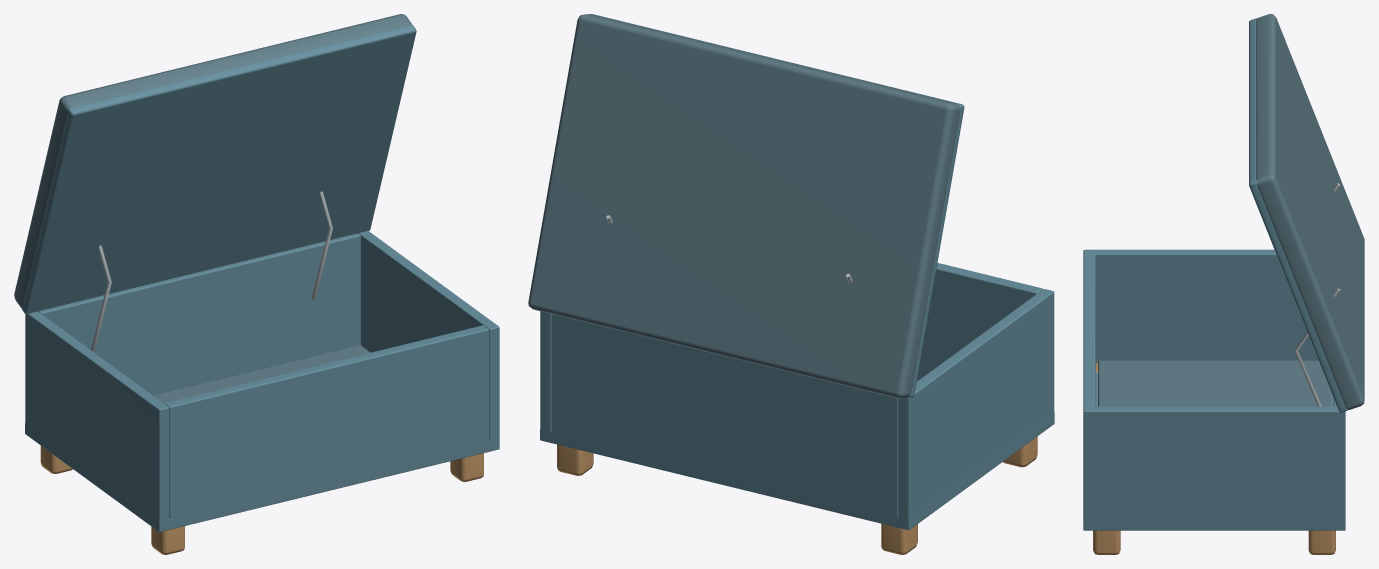
The model's file is storage-ottoman.glb.
3 views of the same model, side by side, from view 1: azimuth 30°, elevation 25°; view 2: azimuth 150°, elevation 25°; view 3: azimuth 270°, elevation 25° (orthographic). The views are drawn at different scales.
Visible parts, largest first — view 1: catalog_surface_RealismUV; view 2: catalog_surface_RealismUV; view 3: catalog_surface_RealismUV.
Part boxes in pixels (x1,y1,x2,y2): catalog_surface_RealismUV: [14, 14, 499, 554]; catalog_surface_RealismUV: [528, 14, 1054, 554]; catalog_surface_RealismUV: [1083, 14, 1364, 554].
Bounding box in the file's own units: 1 × 1.09 × 0.72.
